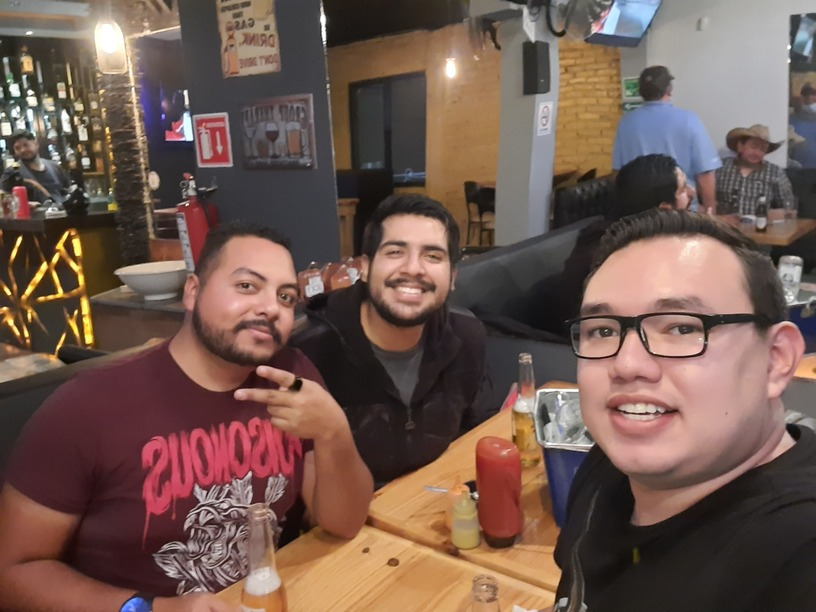Yoshi: (173, 213, 311, 396)
